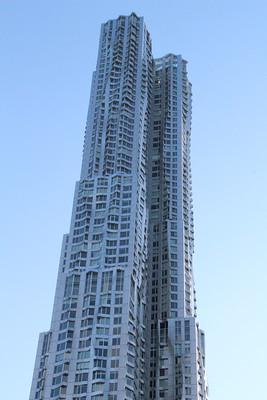building: (34, 12, 212, 400)
